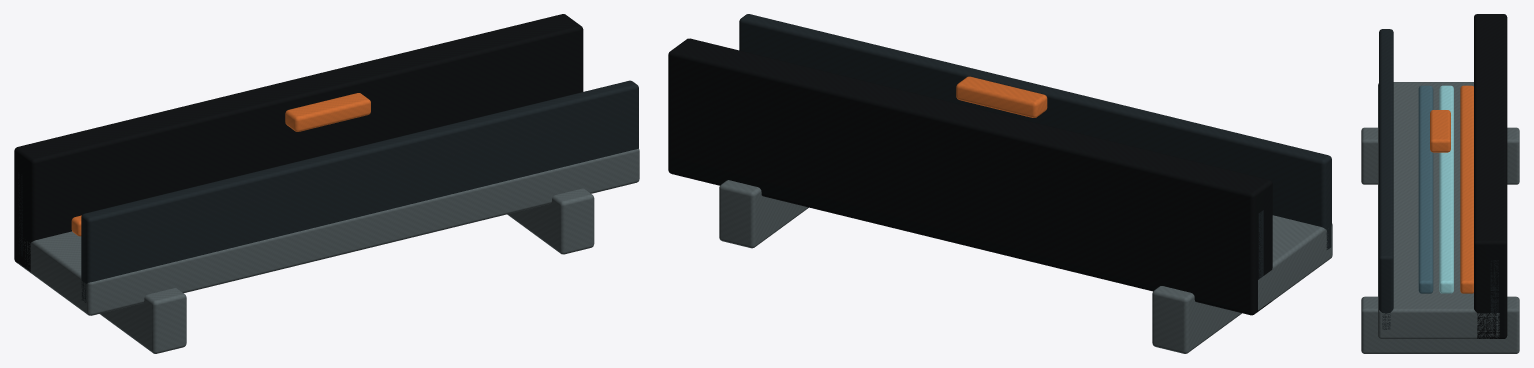
Rendered from CableTray.glb.
The picture shows the model from 3 angles, left to right: view 1: azimuth 30°, elevation 25°; view 2: azimuth 150°, elevation 25°; view 3: azimuth 270°, elevation 25°; orthographic projection. The views are drawn at different scales.
Parts seen in each view (by area): view 1: CableTray_Mesh; view 2: CableTray_Mesh; view 3: CableTray_Mesh.
Part boxes in pixels (x1,y1,x2,y2): CableTray_Mesh: (14,14,639,353); CableTray_Mesh: (668,14,1332,353); CableTray_Mesh: (1361,14,1519,353).
Bounding box in the file's own units: 1.3 × 0.3675 × 0.38.
Materials: 6 (6 with a texture image).
